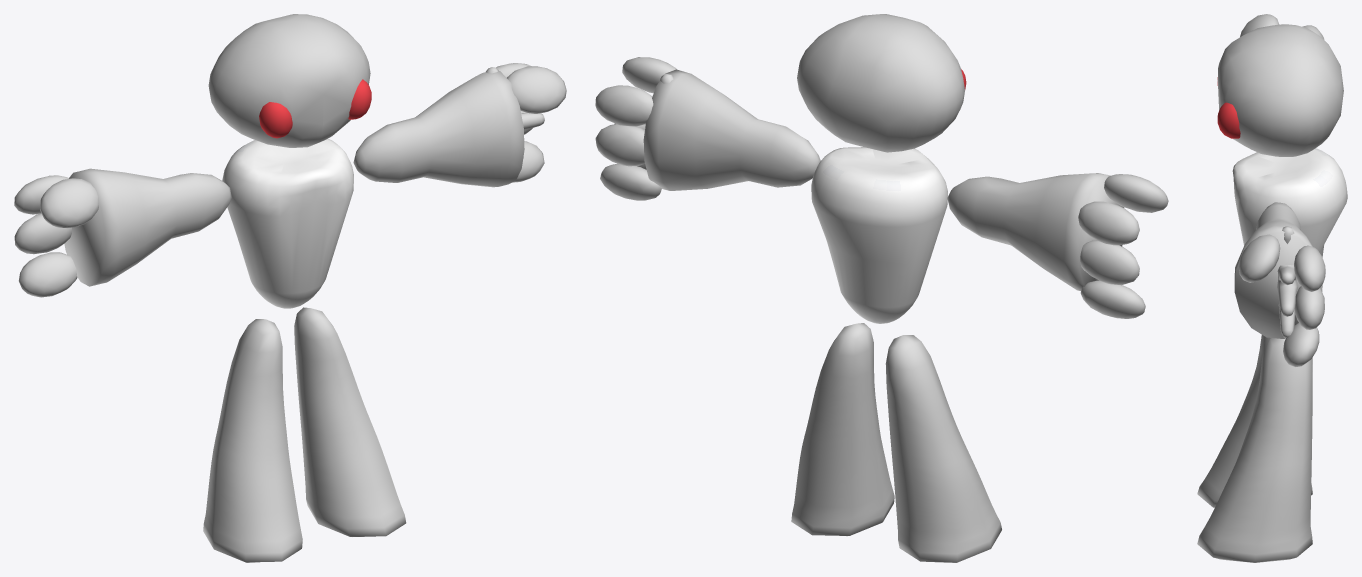
Rendered from Bob.glb.
The picture shows the model from 3 angles, left to right: view 1: azimuth 30°, elevation 25°; view 2: azimuth 150°, elevation 25°; view 3: azimuth 270°, elevation 25°; orthographic projection. The views are drawn at different scales.
Visible parts, largest first — view 1: Arm R, Leg R, Arm L, Body, Leg L, Head, Eyes; view 2: Arm L, Arm R, Body, Head, Leg R, Leg L; view 3: Leg L, Head, Arm L, Body, Leg R, Arms, Eyes, Arm R.
Part boxes in pixels (box(x1,y1,x2,y2)): Arm R: box(14, 168, 231, 297); Leg R: box(203, 319, 302, 562); Arm L: box(353, 63, 566, 187); Body: box(222, 138, 353, 308); Leg L: box(294, 307, 406, 536); Head: box(208, 14, 370, 147); Eyes: box(259, 79, 371, 138); Arm L: box(595, 57, 820, 200); Arm R: box(947, 173, 1168, 318); Body: box(811, 147, 947, 323); Head: box(797, 14, 964, 152); Leg R: box(885, 335, 1001, 562); Leg L: box(791, 323, 894, 536); Leg L: box(1197, 338, 1312, 562); Head: box(1217, 24, 1343, 156); Arm L: box(1234, 202, 1325, 366); Body: box(1232, 148, 1347, 257); Leg R: box(1197, 335, 1312, 507); Arms: box(1277, 226, 1297, 338); Eyes: box(1217, 77, 1240, 138); Arm R: box(1240, 14, 1324, 39).
Bounding box in the file's own units: 12.32 × 11.32 × 3.13.
Materials: 1 (1 with a texture image).
